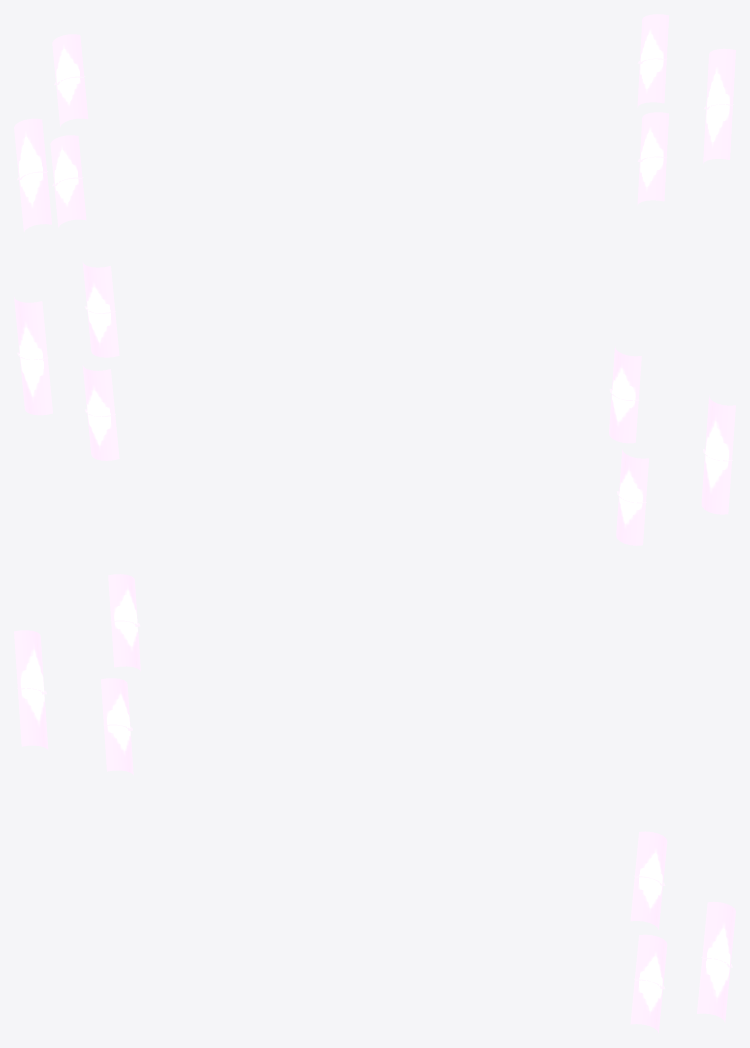
File: sfx_glorb_claw_attack3.glb
3 renders of one model, top to bottom at view 1: azimuth 30°, elevation 25°; view 2: azimuth 150°, elevation 25°; view 3: azimuth 330°, elevation 25°, orthographic. The views are drawn at different scales.
Parts seen in each view (by area): view 1: sfx_glorb_claw_attack3_obj5, sfx_glorb_claw_attack3_obj0, sfx_glorb_claw_attack3_obj3, sfx_glorb_claw_attack3_obj4, sfx_glorb_claw_attack3_obj1, sfx_glorb_claw_attack3_obj2; view 2: sfx_glorb_claw_attack3_obj0, sfx_glorb_claw_attack3_obj5, sfx_glorb_claw_attack3_obj1, sfx_glorb_claw_attack3_obj2, sfx_glorb_claw_attack3_obj4, sfx_glorb_claw_attack3_obj3; view 3: sfx_glorb_claw_attack3_obj0, sfx_glorb_claw_attack3_obj5, sfx_glorb_claw_attack3_obj2, sfx_glorb_claw_attack3_obj1, sfx_glorb_claw_attack3_obj3, sfx_glorb_claw_attack3_obj4.
Boxes of the visible parts, x1,y1,x2,y2 form: sfx_glorb_claw_attack3_obj5: (14, 118, 51, 231); sfx_glorb_claw_attack3_obj0: (703, 48, 735, 163); sfx_glorb_claw_attack3_obj3: (52, 34, 88, 126); sfx_glorb_claw_attack3_obj4: (50, 135, 86, 227); sfx_glorb_claw_attack3_obj1: (637, 14, 668, 107); sfx_glorb_claw_attack3_obj2: (637, 112, 668, 205); sfx_glorb_claw_attack3_obj0: (14, 297, 52, 415); sfx_glorb_claw_attack3_obj5: (701, 395, 735, 514); sfx_glorb_claw_attack3_obj1: (82, 262, 119, 357); sfx_glorb_claw_attack3_obj2: (82, 365, 119, 460); sfx_glorb_claw_attack3_obj4: (616, 449, 648, 545); sfx_glorb_claw_attack3_obj3: (609, 346, 641, 443); sfx_glorb_claw_attack3_obj0: (697, 901, 735, 1022); sfx_glorb_claw_attack3_obj5: (14, 630, 48, 750); sfx_glorb_claw_attack3_obj2: (630, 934, 667, 1032); sfx_glorb_claw_attack3_obj1: (630, 831, 667, 929); sfx_glorb_claw_attack3_obj3: (108, 574, 140, 671); sfx_glorb_claw_attack3_obj4: (101, 678, 133, 775).
Size of the model in its own units: 1.72 by 0.6241 by 0.2125.
Materials: 1 (1 with a texture image).
